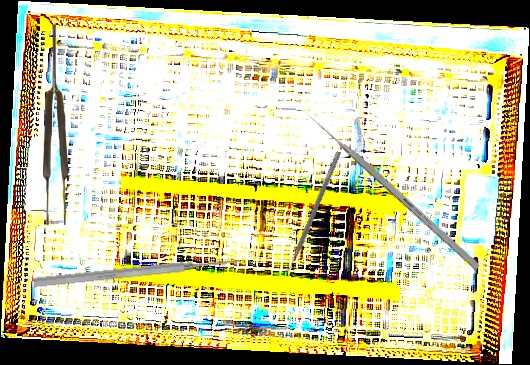Pusher: (301, 107, 481, 271), (32, 254, 242, 290)
Spatula Surgical: (281, 148, 342, 277)
Tissue Forceps: (43, 24, 68, 225)
